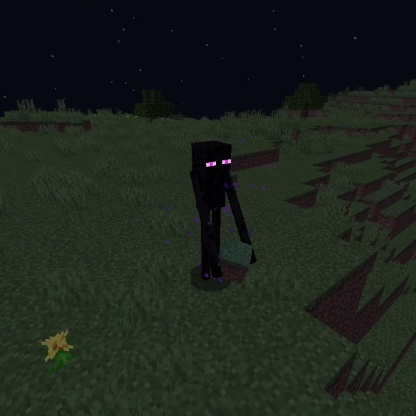enderman: (187, 138, 259, 284)
